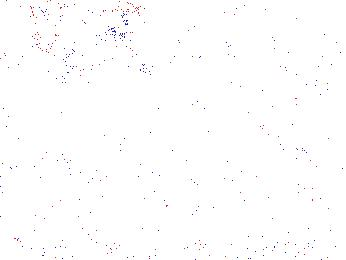moon jellyfish: (147, 1, 234, 88), (255, 1, 342, 73), (37, 1, 108, 87), (261, 82, 337, 158), (52, 1, 140, 44), (126, 4, 171, 76)
